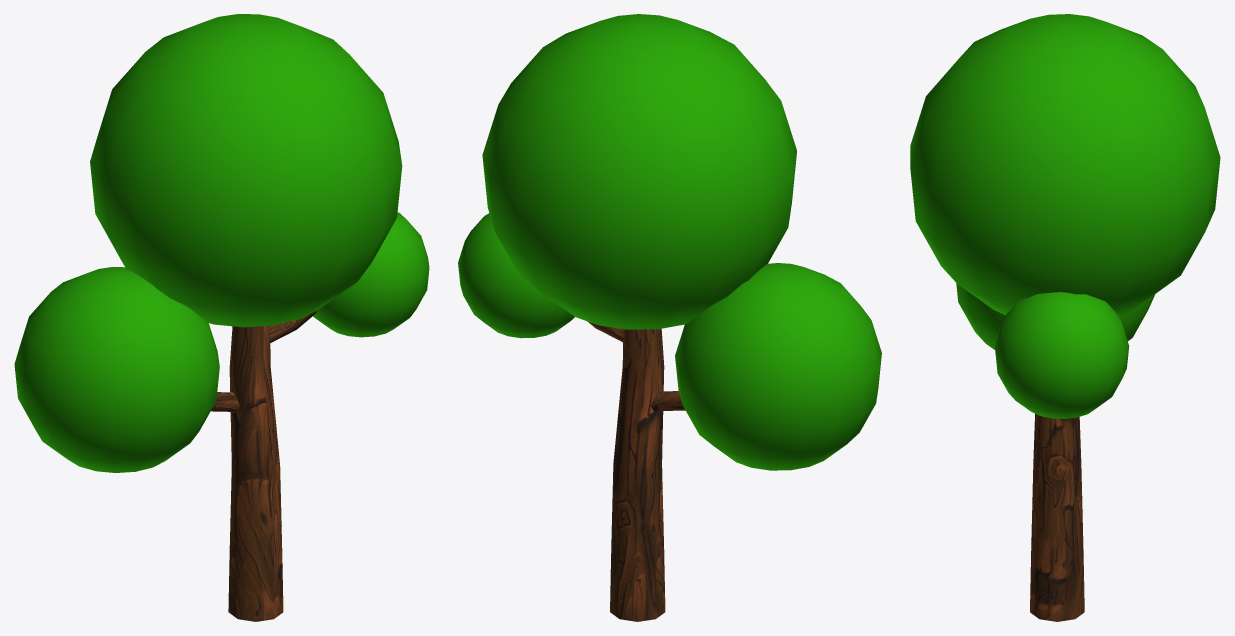
Rendered from moominTreeDone.FBX.
3 renders of one model, left to right at view 1: azimuth 30°, elevation 25°; view 2: azimuth 150°, elevation 25°; view 3: azimuth 270°, elevation 25°, orthographic.
Parts seen in each view (by area): view 1: Cylinder020; view 2: Cylinder020; view 3: Cylinder020.
Boxes of the visible parts, x1=… form: Cylinder020: x1=14, y1=14, x2=429, y2=621; Cylinder020: x1=458, y1=14, x2=881, y2=621; Cylinder020: x1=910, y1=14, x2=1220, y2=621.
Size of the model in its own units: 327 by 459 by 223.
Materials: 1 (1 with a texture image).
